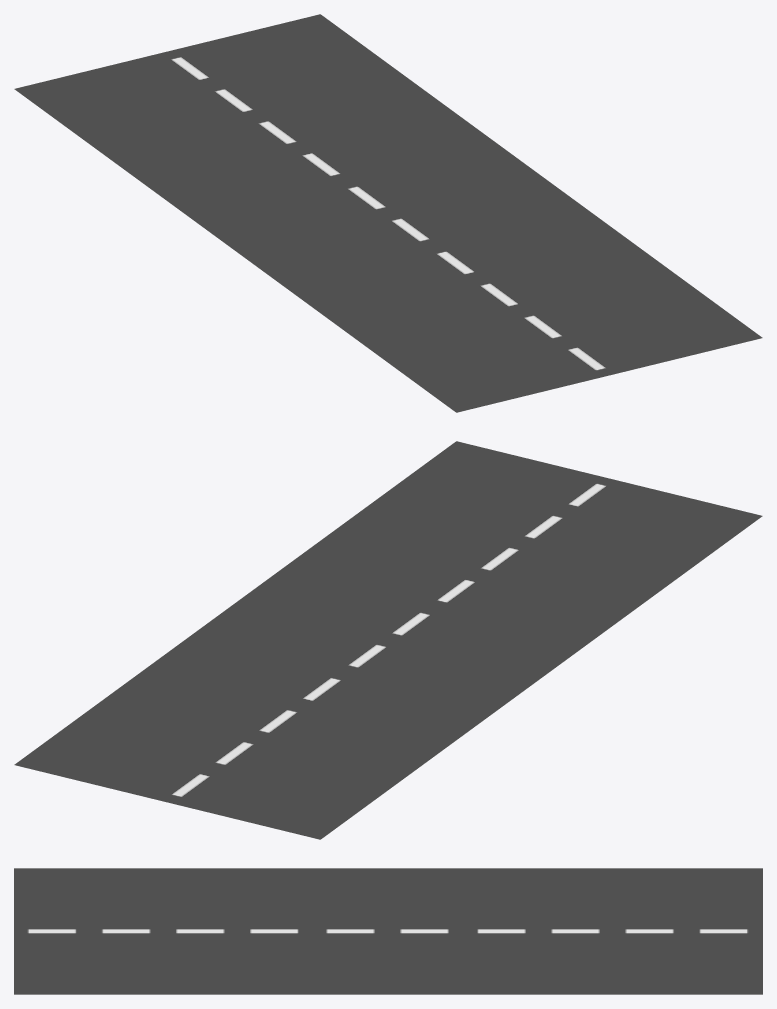
Rendered from Road_Line_01.FBX.
The picture shows the model from 3 angles, top to bottom: view 1: azimuth 30°, elevation 25°; view 2: azimuth 150°, elevation 25°; view 3: azimuth 270°, elevation 25°; orthographic projection. The views are drawn at different scales.
Parts seen in each view (by area): view 1: Road_Line_01; view 2: Road_Line_01; view 3: Road_Line_01.
Part boxes in pixels (left/top/right/bottom): Road_Line_01: left=14, top=14, right=762, bottom=412; Road_Line_01: left=14, top=441, right=762, bottom=839; Road_Line_01: left=14, top=868, right=762, bottom=994.
Bounding box in the file's own units: 8 × 1.97e-06 × 20.
